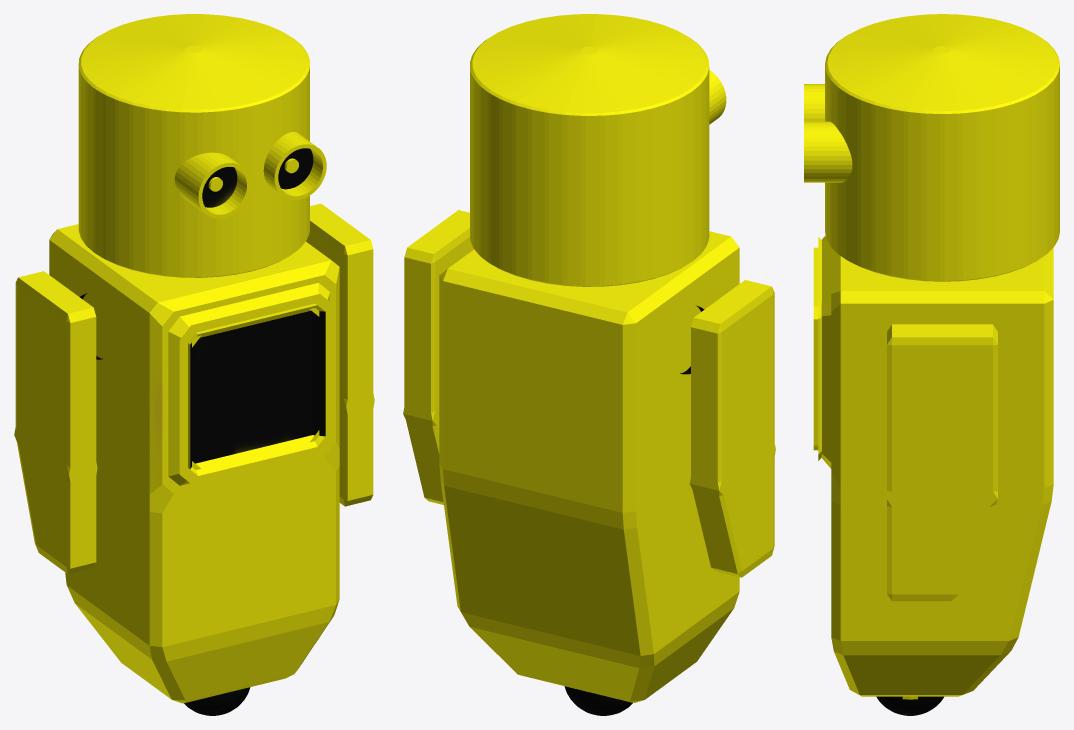
File: Yellow_Robot.glb
3 views of the same model, side by side, from view 1: azimuth 30°, elevation 25°; view 2: azimuth 150°, elevation 25°; view 3: azimuth 270°, elevation 25° (orthographic). The views are drawn at different scales.
Visible parts, largest first — view 1: Cube.001; view 2: Cube.001; view 3: Cube.001.
Part boxes in pixels (bbox=[...]): Cube.001: bbox=[14, 14, 374, 715]; Cube.001: bbox=[403, 14, 775, 715]; Cube.001: bbox=[804, 14, 1059, 715].
Bounding box in the file's own units: 3.22 × 6.56 × 2.3.
Materials: 1 (1 with a texture image).
